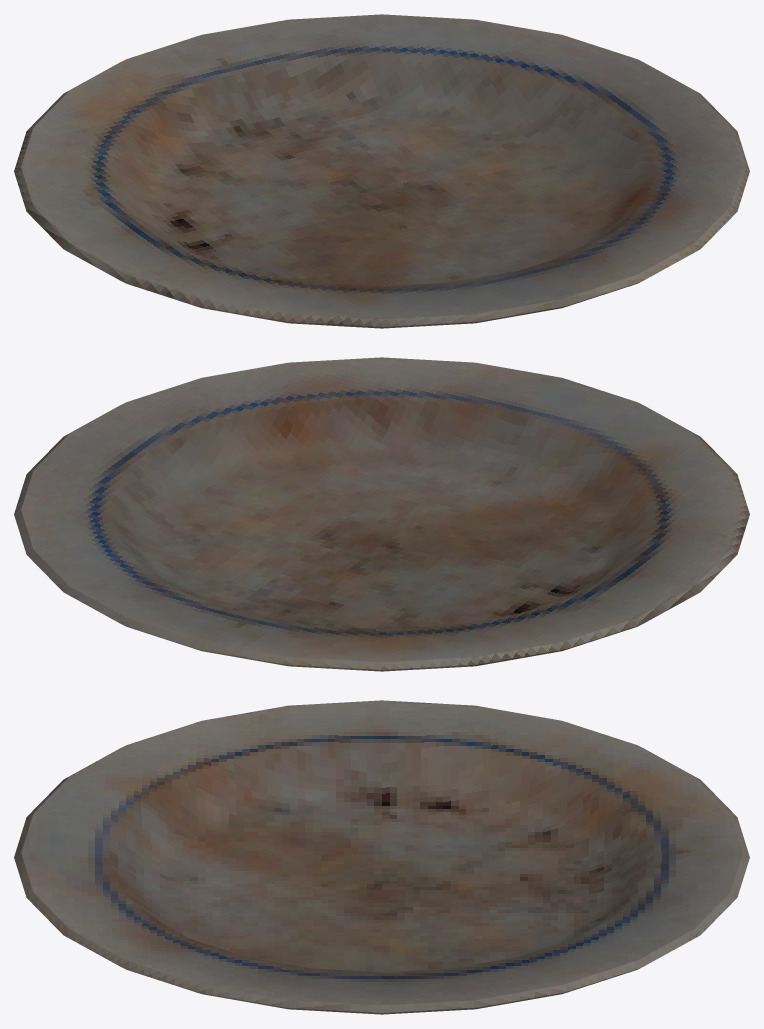
The model's file is plate_mp_1.glb.
3 views of the same model, one above another, from view 1: azimuth 30°, elevation 25°; view 2: azimuth 150°, elevation 25°; view 3: azimuth 270°, elevation 25° (orthographic).
Visible parts, largest first — view 1: plate_mp_1; view 2: plate_mp_1; view 3: plate_mp_1.
Boxes of the visible parts, x1=… form: plate_mp_1: x1=14, y1=14, x2=749, y2=328; plate_mp_1: x1=14, y1=357, x2=749, y2=671; plate_mp_1: x1=14, y1=700, x2=749, y2=1014.
Size of the model in its own units: 0.3276 by 0.0221 by 0.3276.
Materials: 1 (1 with a texture image).
